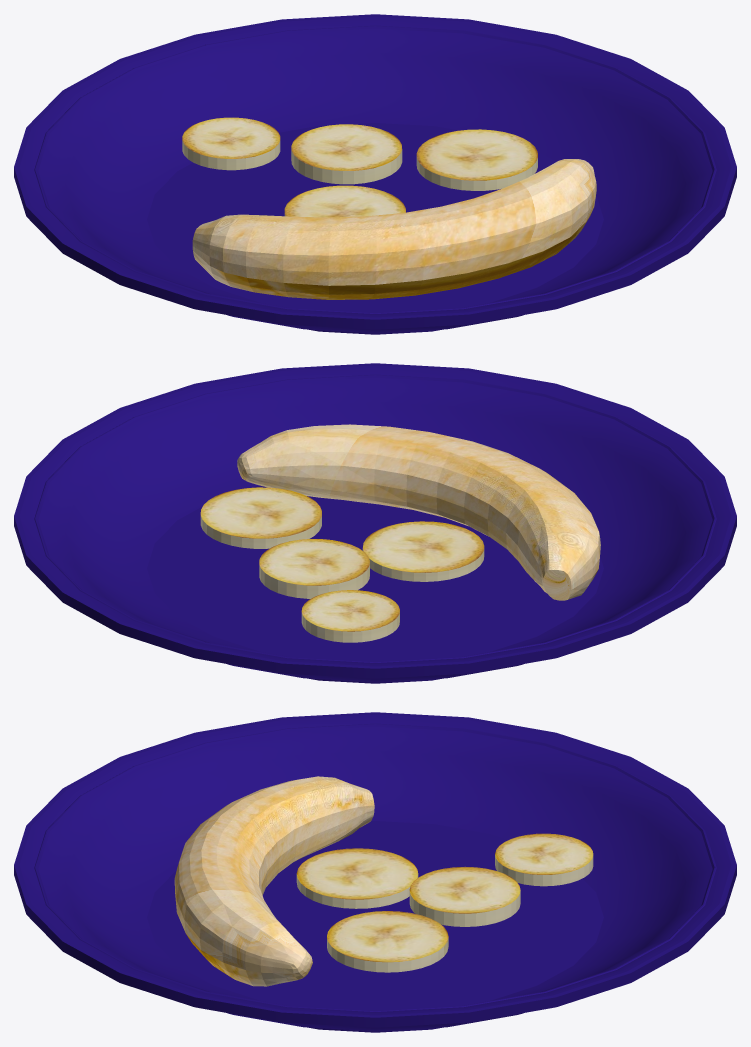
File: Pisang.fbx
3 renders of one model, top to bottom at view 1: azimuth 30°, elevation 25°; view 2: azimuth 150°, elevation 25°; view 3: azimuth 270°, elevation 25°, orthographic.
Parts seen in each view (by area): view 1: piring, banana12, Cylinder.001, Cylinder, Cylinder.003, Cylinder.002; view 2: piring, banana12, Cylinder.001, Cylinder.002, Cylinder, Cylinder.003; view 3: piring, banana12, Cylinder.001, Cylinder.002, Cylinder, Cylinder.003.
Boxes of the visible parts, box(x1,y1,x2,y2) form: piring: box(14, 14, 736, 334); banana12: box(192, 159, 596, 299); Cylinder.001: box(416, 129, 537, 190); Cylinder: box(291, 124, 402, 184); Cylinder.003: box(182, 117, 280, 170); Cylinder.002: box(284, 185, 405, 217); piring: box(14, 363, 736, 683); banana12: box(237, 424, 600, 600); Cylinder.001: box(200, 487, 321, 548); Cylinder.002: box(362, 521, 484, 581); Cylinder: box(259, 539, 369, 598); Cylinder.003: box(301, 590, 399, 642); piring: box(14, 712, 736, 1032); banana12: box(174, 776, 374, 986); Cylinder.001: box(327, 911, 448, 972); Cylinder.002: box(296, 848, 418, 908); Cylinder: box(409, 866, 520, 926); Cylinder.003: box(495, 833, 593, 886).
Bounding box in the file's own units: 9706 × 1340 × 9706.
